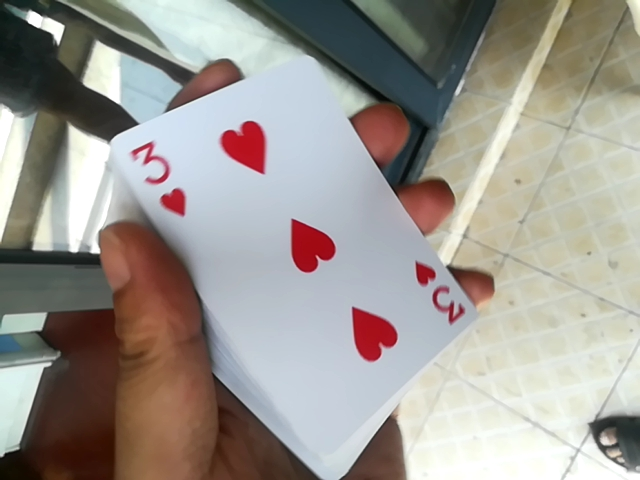hx 3: (88, 30, 465, 479)
